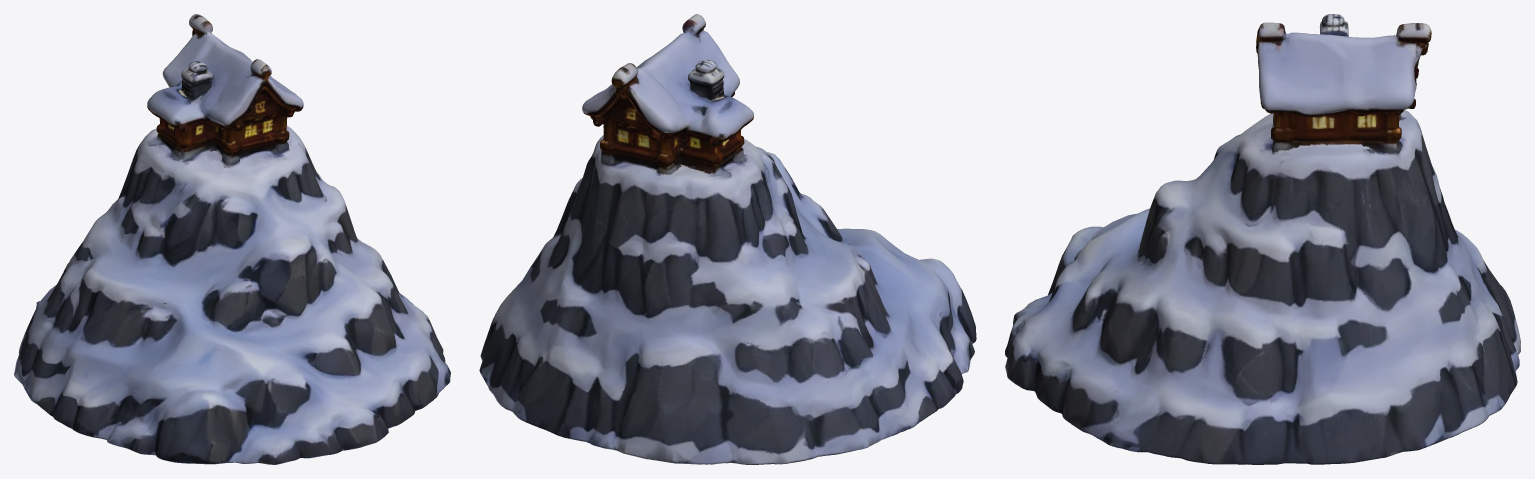
Rendered from landmark.glb.
3 renders of one model, left to right at view 1: azimuth 30°, elevation 25°; view 2: azimuth 150°, elevation 25°; view 3: azimuth 270°, elevation 25°, orthographic. The views are drawn at different scales.
Parts seen in each view (by area): view 1: landmark; view 2: landmark; view 3: landmark.
Part boxes in pixels (x1,y1,x2,y2): landmark: (14, 14, 450, 464); landmark: (479, 14, 976, 464); landmark: (1005, 14, 1520, 464).
Size of the model in its own units: 17.92 by 13.99 by 18.48.
Materials: 1 (1 with a texture image).
